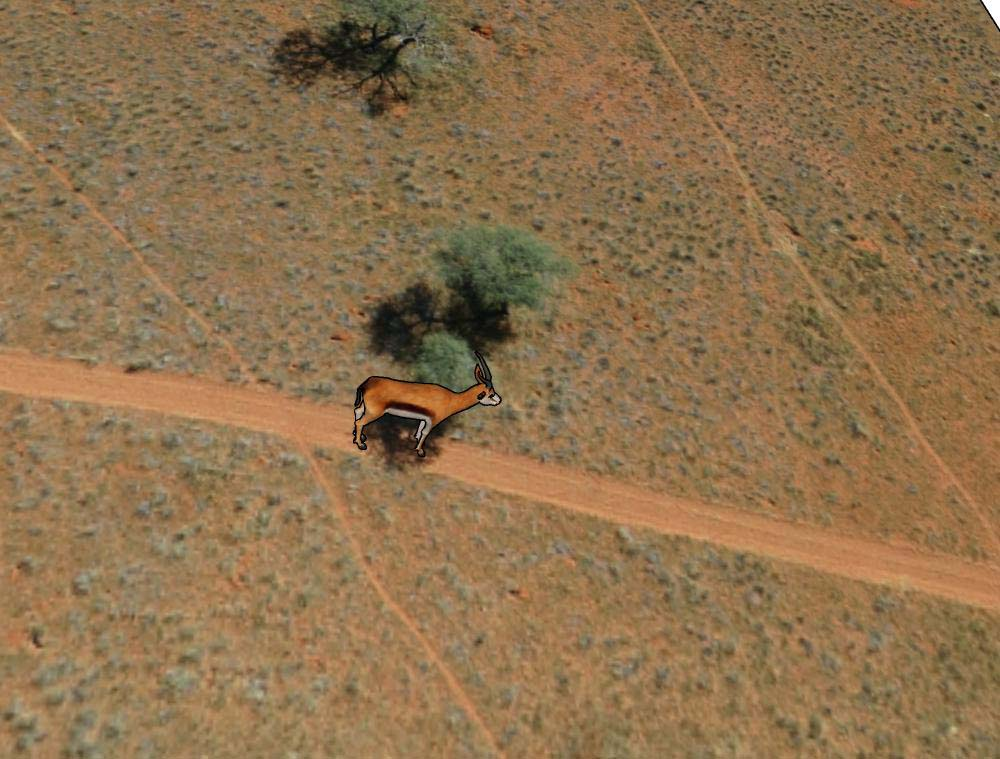springbok: (347, 347, 505, 461)
